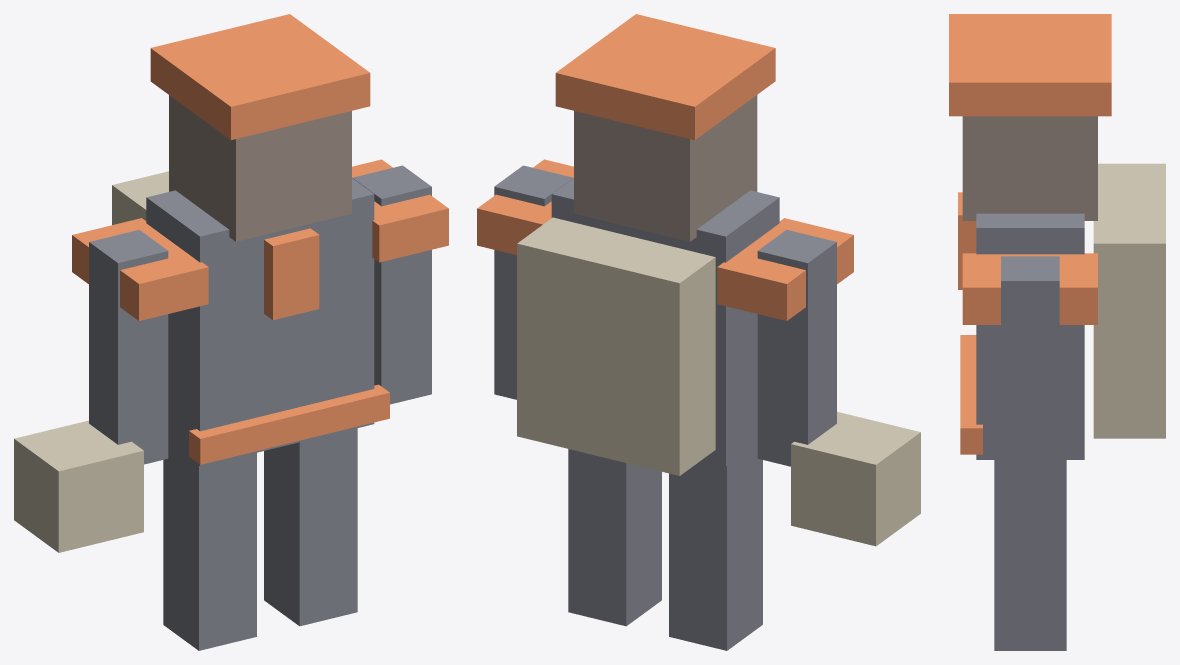
Rendered from 17_dax_gantryn_runner_at_cargo.glb.
3 views of the same model, side by side, from view 1: azimuth 30°, elevation 25°; view 2: azimuth 150°, elevation 25°; view 3: azimuth 270°, elevation 25° (orthographic).
Visible parts, largest first — view 1: Dax Gantryn, Runner at Cargo; view 2: Dax Gantryn, Runner at Cargo; view 3: Dax Gantryn, Runner at Cargo.
Part boxes in pixels (<box>): Dax Gantryn, Runner at Cargo: <box>14,14,448,650</box>; Dax Gantryn, Runner at Cargo: <box>477,14,920,650</box>; Dax Gantryn, Runner at Cargo: <box>949,14,1165,650</box>.
Bounding box in the file's own units: 1.09 × 1.51 × 0.5268.
